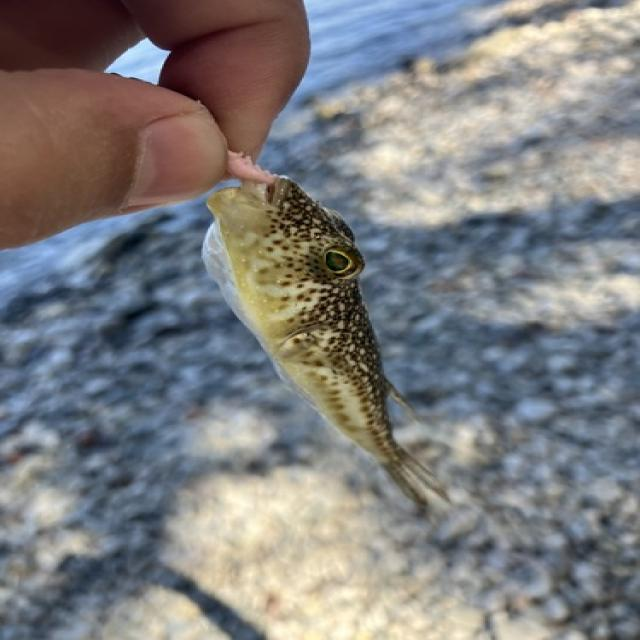Balik: (204, 177, 447, 505)
